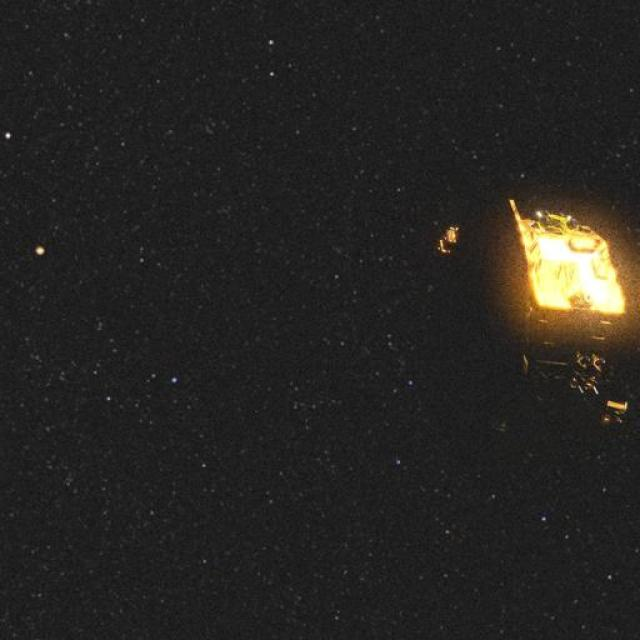lisa_pathfinder: (431, 170, 640, 454)
